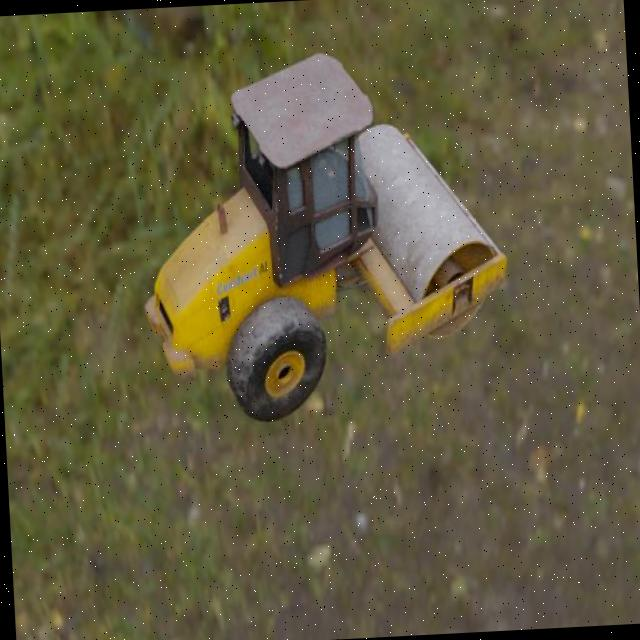Roller: (130, 43, 516, 428)
